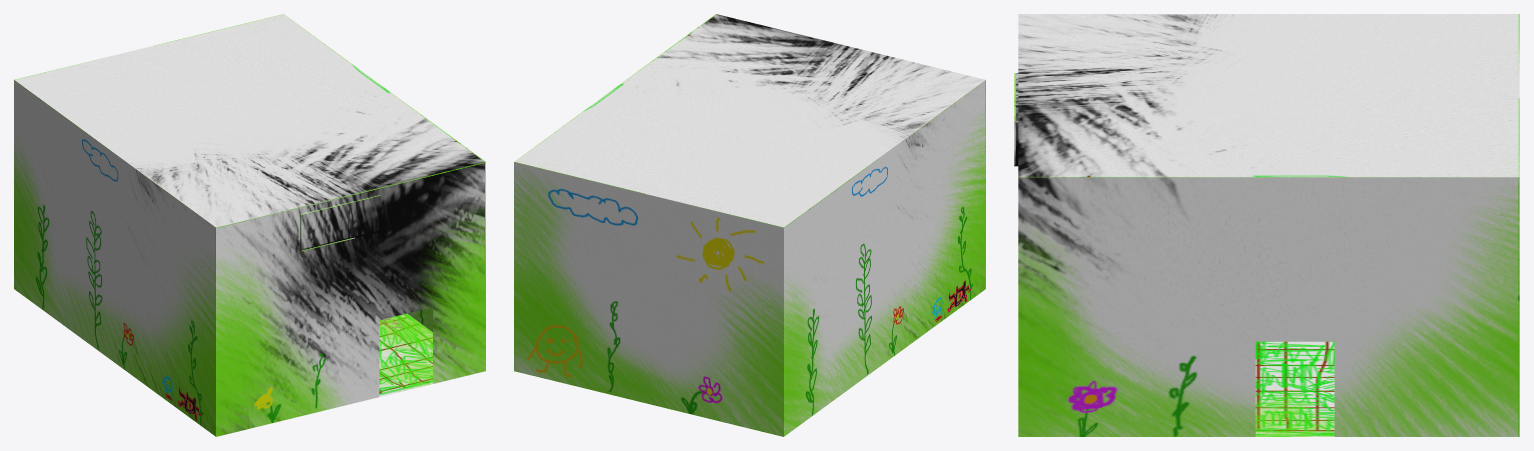
The model's file is Walls_2.fbx.
The picture shows the model from 3 angles, left to right: view 1: azimuth 30°, elevation 25°; view 2: azimuth 150°, elevation 25°; view 3: azimuth 270°, elevation 25°; orthographic projection. The views are drawn at different scales.
Parts seen in each view (by area): view 1: Cube; view 2: Cube; view 3: Cube.
Boxes of the visible parts, bbox=[...] form: Cube: bbox=[14, 14, 485, 436]; Cube: bbox=[514, 14, 985, 436]; Cube: bbox=[1014, 14, 1519, 436].
Bounding box in the file's own units: 270 × 200 × 353.
Materials: 1 (1 with a texture image).
